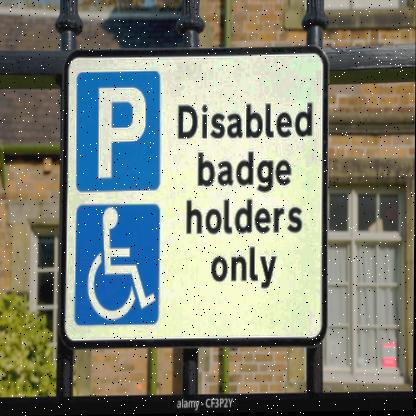Parking: (78, 74, 161, 191)
